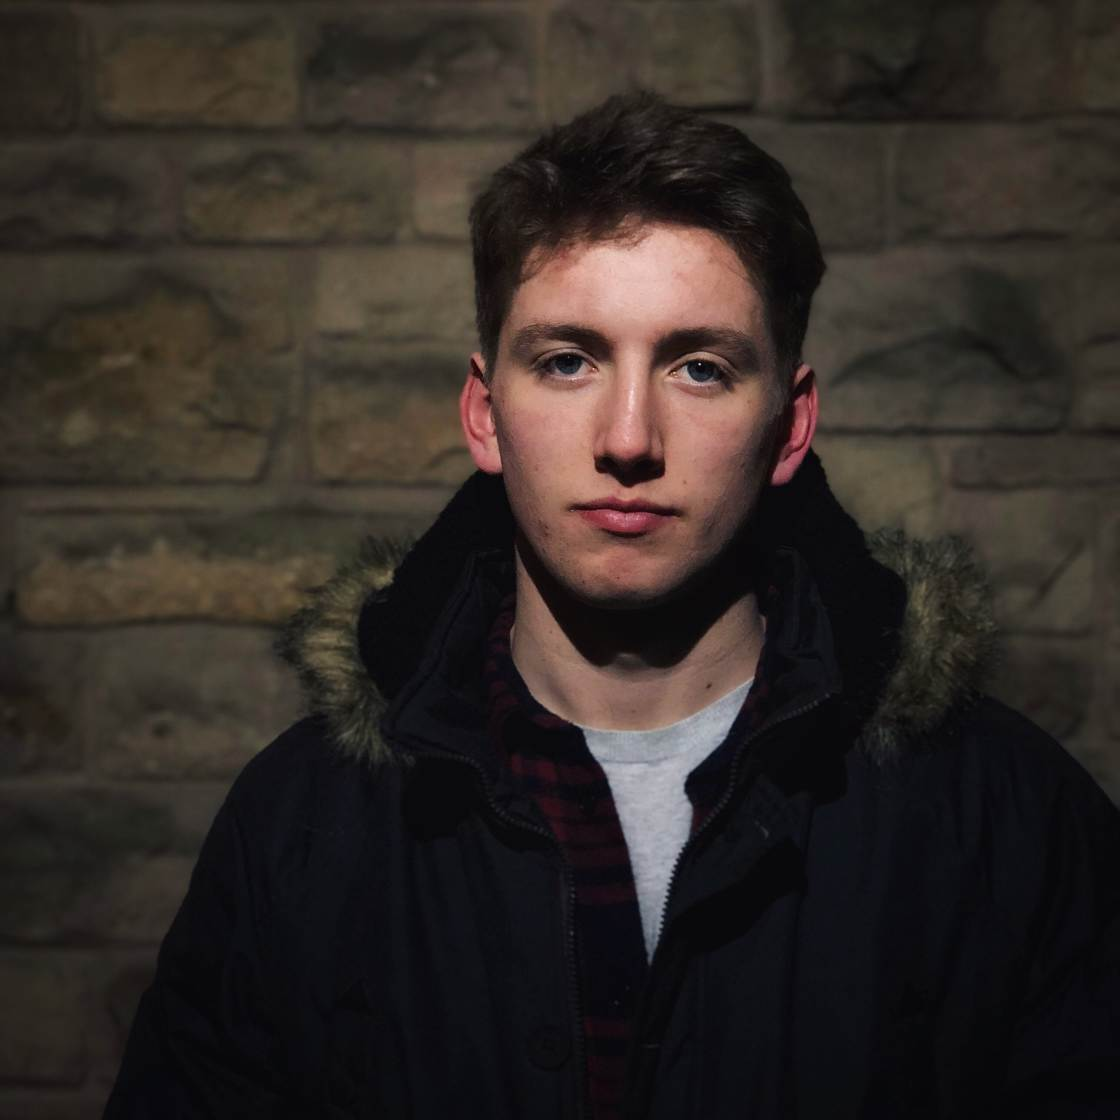bare: (484, 391, 768, 605)
